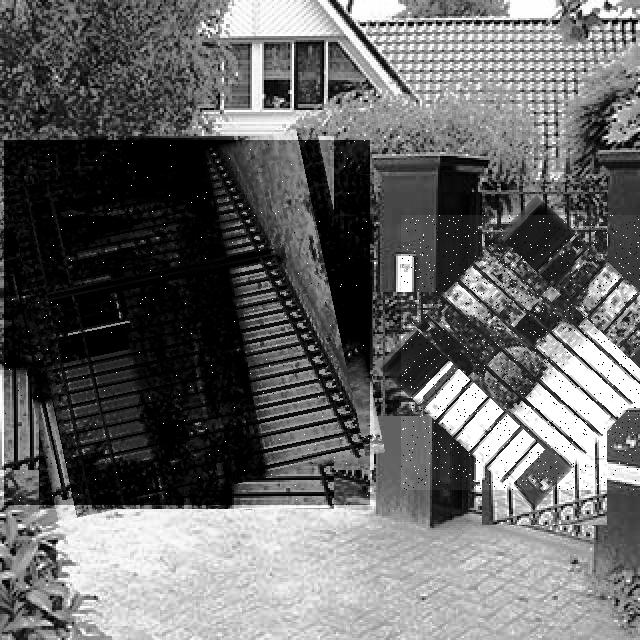fences: (4, 140, 370, 505), (401, 215, 640, 490)
